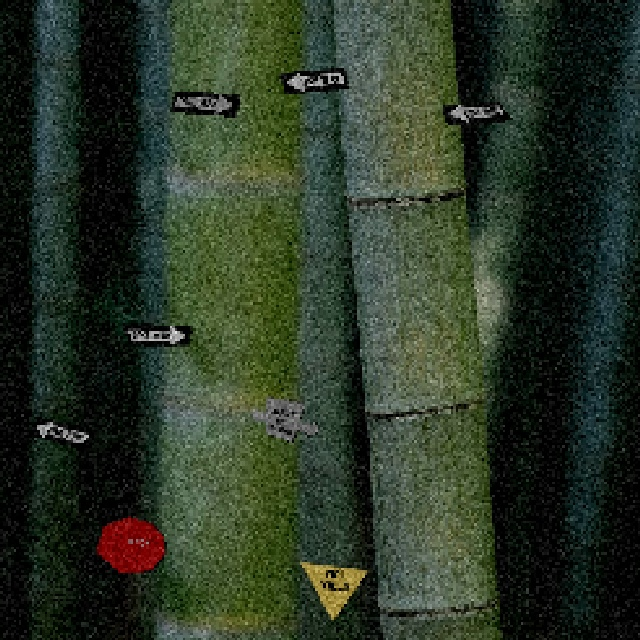DO_NOT_GO_AROUND: (248, 394, 319, 441)
NOT_YIELD: (297, 559, 368, 621)
ONE_WAY_ left: (24, 415, 95, 448), (277, 65, 348, 93), (439, 100, 510, 124)
ONE_WAY_ right: (168, 88, 239, 115), (119, 321, 190, 344)
STOP: (93, 514, 164, 573)
